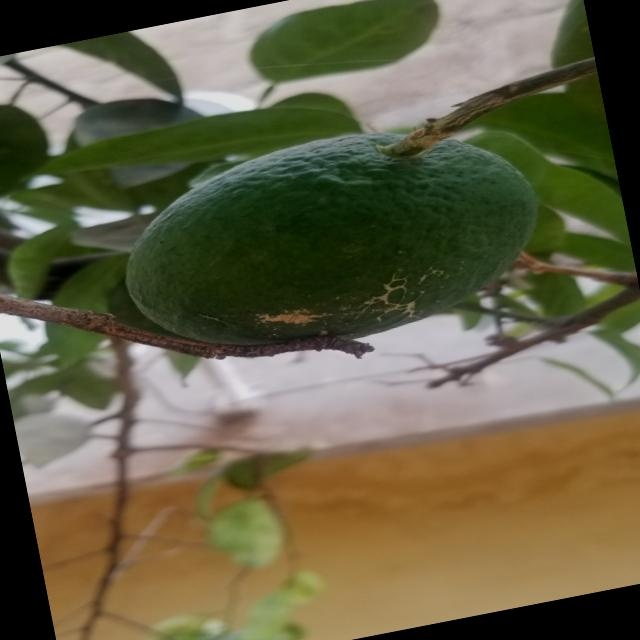agrume: (89, 95, 568, 416)
